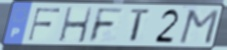2: (154, 8, 182, 44)
F: (87, 7, 126, 44), (26, 7, 63, 42)
H: (57, 6, 94, 44)
M: (177, 9, 221, 46)
T: (128, 7, 153, 44)
